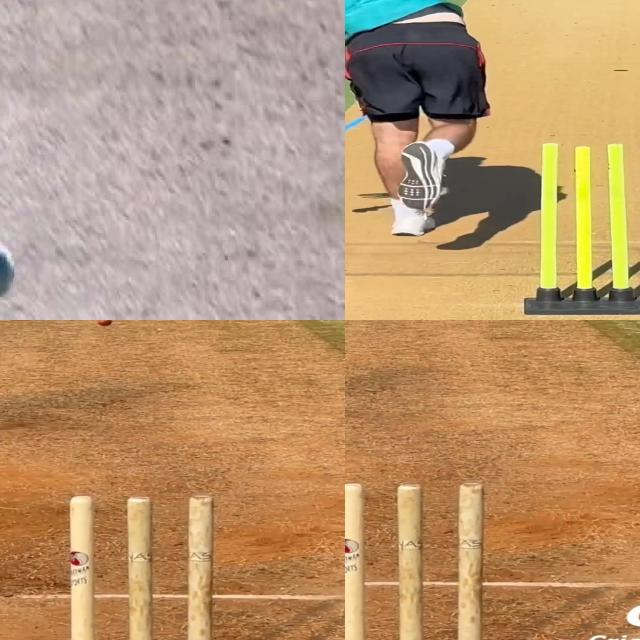Cricket ball: (0, 242, 17, 297), (95, 320, 113, 326)
Stumps: (345, 482, 489, 640), (69, 494, 223, 640), (520, 141, 640, 316)
